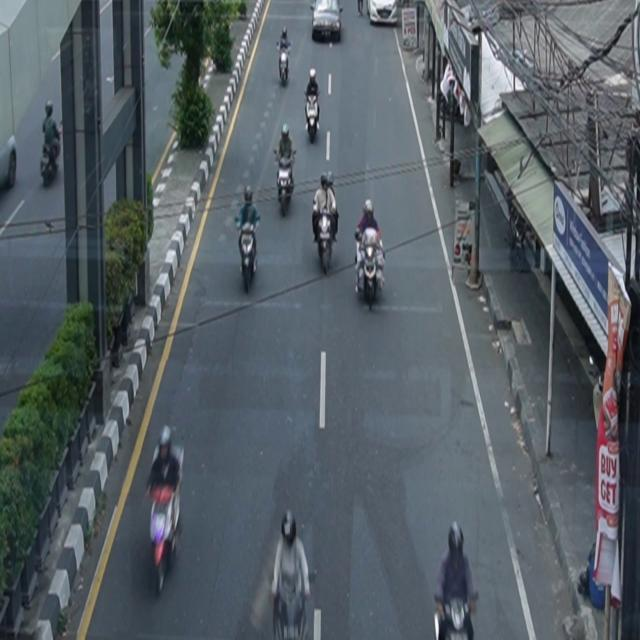car: (310, 1, 344, 42)
